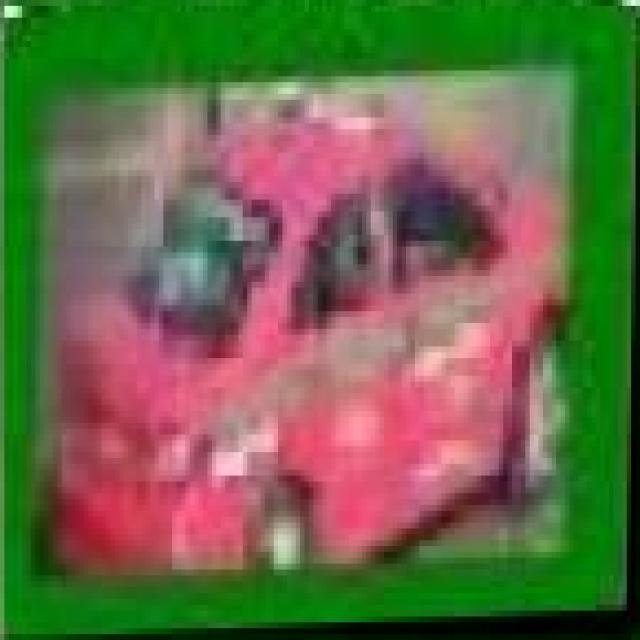nofire: (4, 6, 640, 640)
